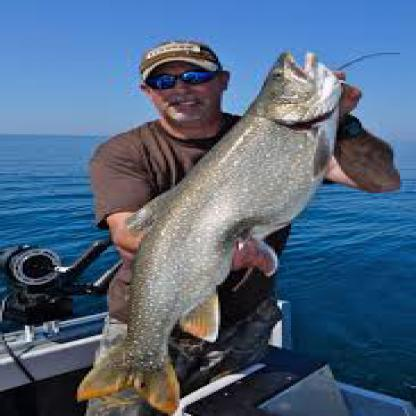fish: (70, 50, 342, 410)
